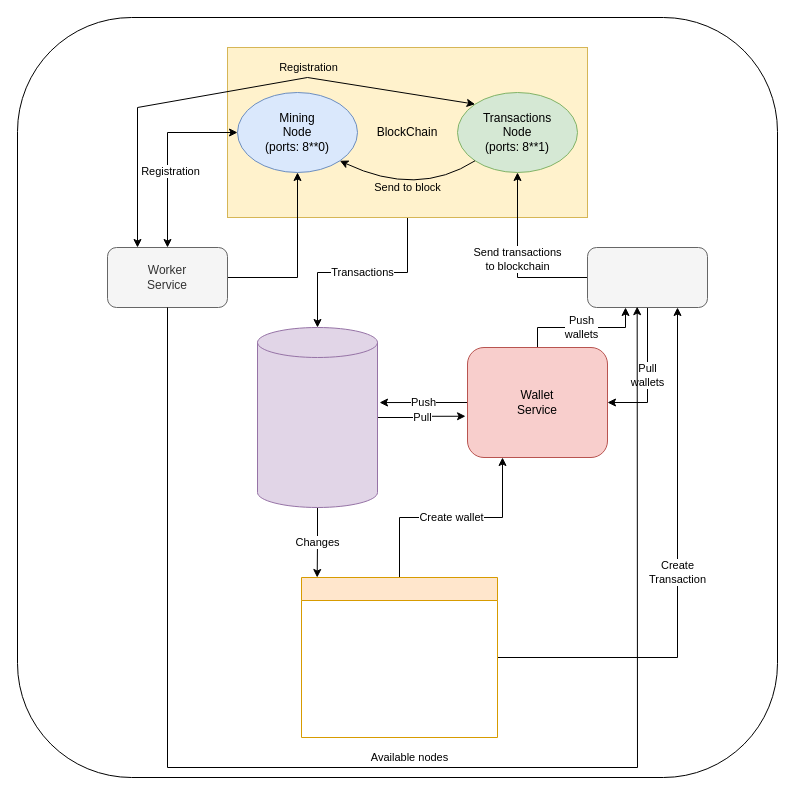
Image size: 795x795. Some labels were removed from this diagram. Each missing label, with the centre of its shape:
DATA BASE: the point at 317,417
Transactions Service: the point at 647,277
User GUI: the point at 399,657
